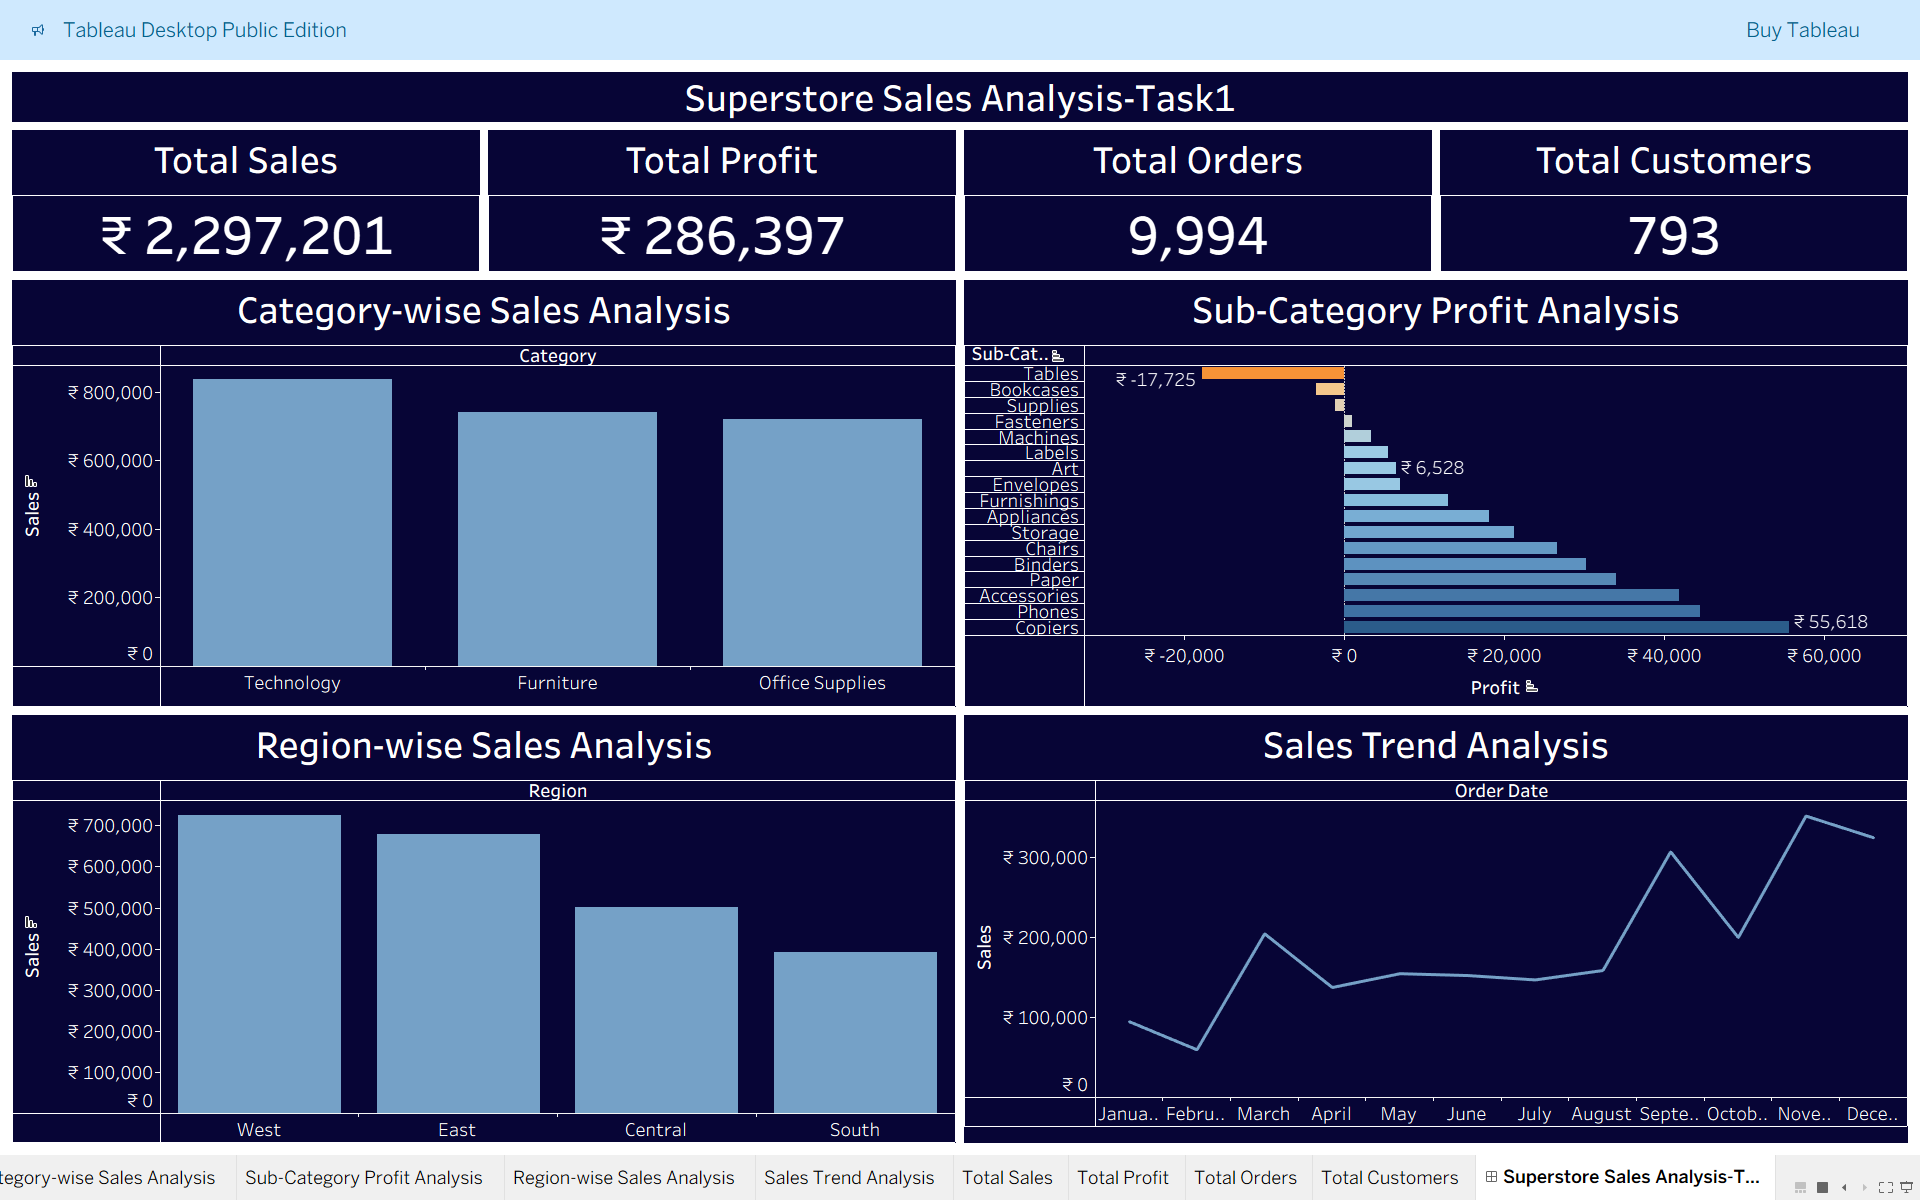

This screenshot's page, from the dashboard's own definition file:
{"tool":"tableau","page":{"name":"Superstore Sales Analysis-Task1","canvas":[1000,1000],"units":"permille","ordinal":0},"visuals":[{"type":"title","box":[4.8,9.2,990.4,67]},{"type":"worksheet","title":"Total Sales","mark":"Automatic","box":[4.8,76.2,247.6,173.2]},{"type":"worksheet","title":"Total Profit","mark":"Automatic","box":[252.4,76.2,247.6,173.2]},{"type":"worksheet","title":"Total Orders","mark":"Automatic","box":[500,76.2,247.6,173.2]},{"type":"worksheet","title":"Total Customers","mark":"Automatic","box":[747.6,76.2,247.6,173.2]},{"type":"worksheet","title":"Category-wise Sales Analysis","mark":"Automatic","rows":["Sales"],"cols":["Category"],"box":[4.8,249.4,495.1,370.4]},{"type":"worksheet","title":"Sub-Category Profit Analysis","mark":"Automatic","rows":["Sub-Category"],"cols":["Profit"],"box":[499.9,249.4,495.3,370.4]},{"type":"worksheet","title":"Region-wise Sales Analysis","mark":"Automatic","rows":["Sales"],"cols":["Region"],"box":[4.8,619.8,495.1,370.9]},{"type":"worksheet","title":"Sales Trend Analysis","mark":"Automatic","rows":["Sales"],"cols":["Order Date"],"box":[499.9,619.8,495.3,370.9]}]}

Visuals, with their boxes on the dashboard's canvas, which has no fixed pixel size, in thousandths of its width and height (x1, y1, x2, y2). These are canvas units, not pixel positions in the 1920x1200 screenshot, which may show the page scaled, cropped or inside an application window:
title: crop(5, 9, 995, 76)
"Total Sales" worksheet: crop(5, 76, 252, 249)
"Total Profit" worksheet: crop(252, 76, 500, 249)
"Total Orders" worksheet: crop(500, 76, 748, 249)
"Total Customers" worksheet: crop(748, 76, 995, 249)
"Category-wise Sales Analysis" worksheet: crop(5, 249, 500, 620)
"Sub-Category Profit Analysis" worksheet: crop(500, 249, 995, 620)
"Region-wise Sales Analysis" worksheet: crop(5, 620, 500, 991)
"Sales Trend Analysis" worksheet: crop(500, 620, 995, 991)
